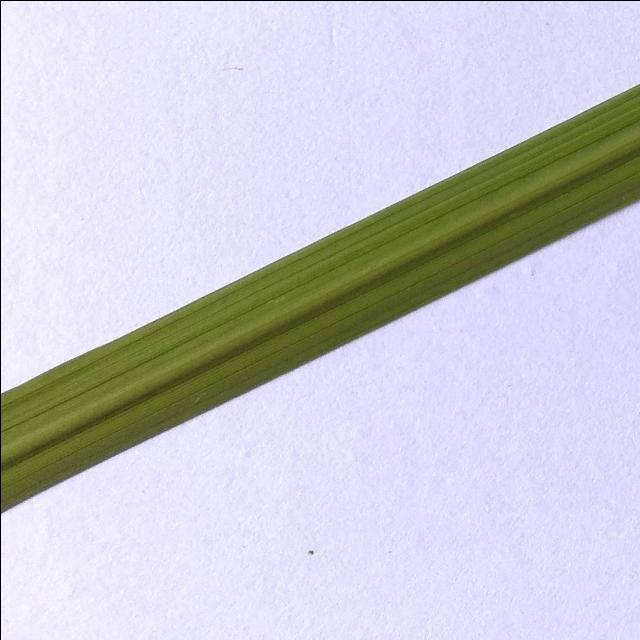healthy: (0, 55, 640, 542)
